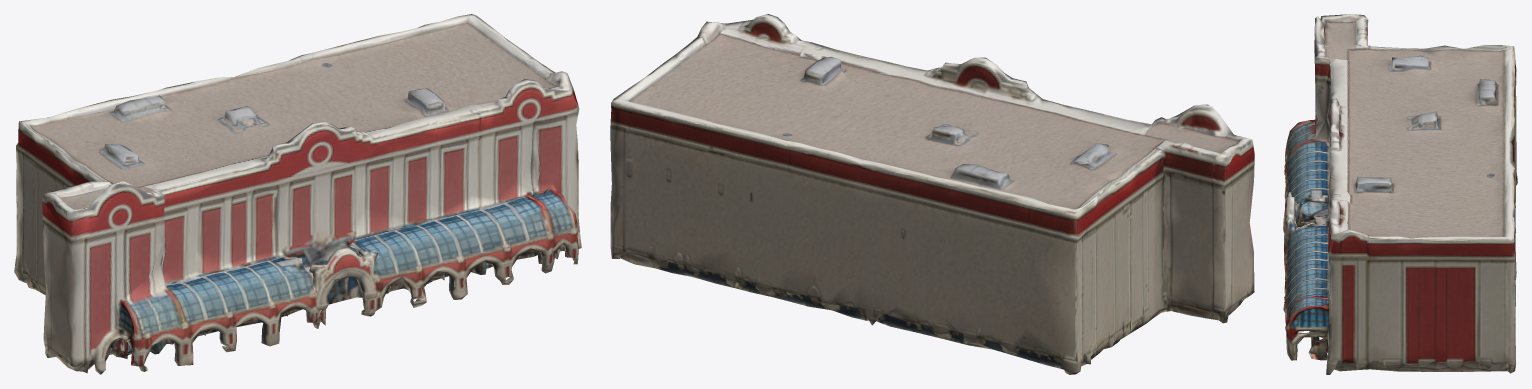
Rendered from 롯데_어드벤처돔.glb.
3 renders of one model, left to right at view 1: azimuth 30°, elevation 25°; view 2: azimuth 150°, elevation 25°; view 3: azimuth 270°, elevation 25°, orthographic. The views are drawn at different scales.
Parts seen in each view (by area): view 1: texture_mapping; view 2: texture_mapping; view 3: texture_mapping.
Part boxes in pixels (left/top/right/bottom): texture_mapping: left=14, top=14, right=581, bottom=374; texture_mapping: left=610, top=14, right=1254, bottom=374; texture_mapping: left=1283, top=14, right=1517, bottom=374.
Size of the model in its own units: 0.9997 by 0.3471 by 0.4547.
1 material, 1 textured.
